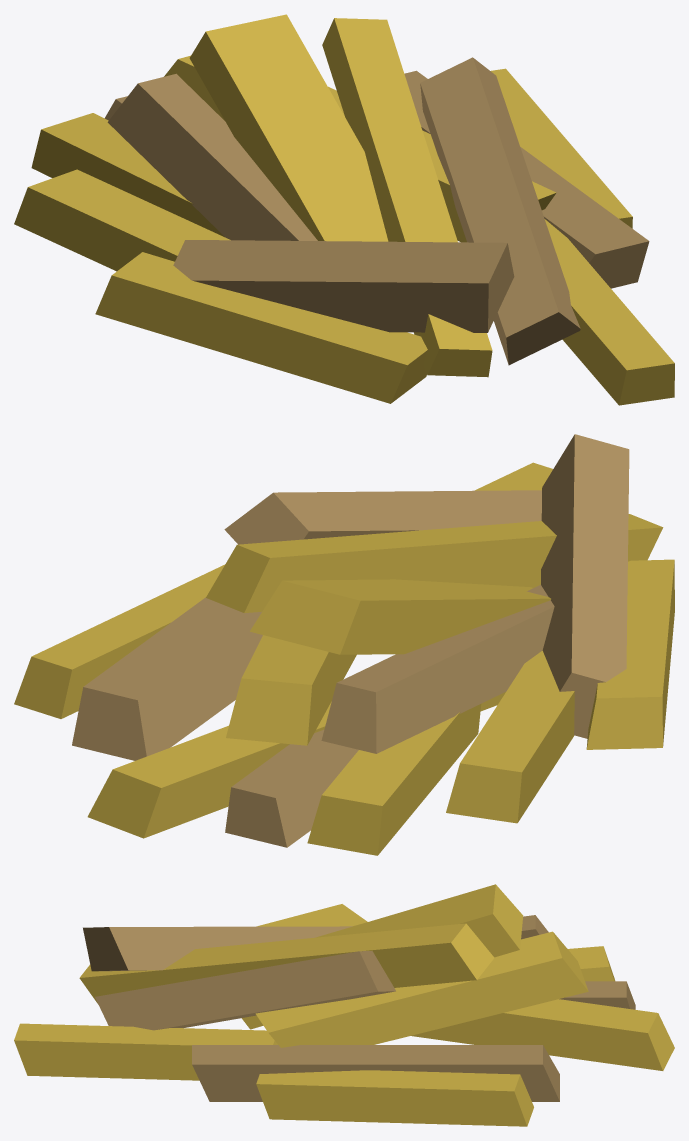
Rendered from M_Food_Fries_001.fbx.
The picture shows the model from 3 angles, top to bottom: view 1: azimuth 30°, elevation 25°; view 2: azimuth 150°, elevation 25°; view 3: azimuth 270°, elevation 25°; orthographic projection. The views are drawn at different scales.
Parts seen in each view (by area): view 1: Fries; view 2: Fries; view 3: Fries.
Boxes of the visible parts, <box> form: Fries: <box>14,14,674,405</box>; Fries: <box>14,434,674,855</box>; Fries: <box>14,884,674,1126</box>.
Size of the model in its own units: 37.49 by 12.75 by 54.22.
